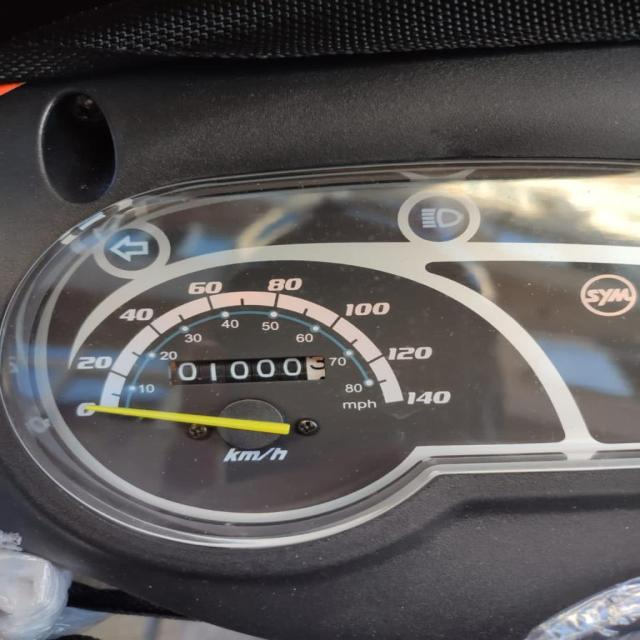odometer: (166, 354, 326, 386)
